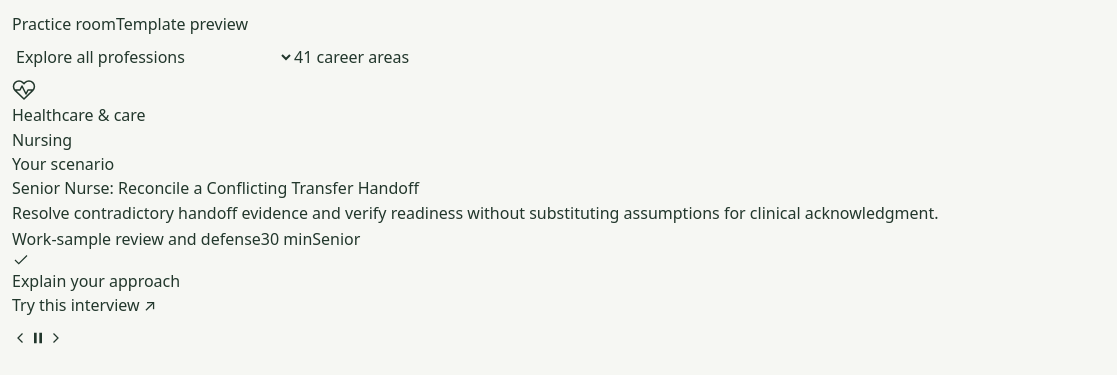
Test: homepage interview preview controls › retains useful previews and working destinations when the public API is unavailable
Click the button named "Next interview preview" at [55, 338], box [46, 317, 64, 359]
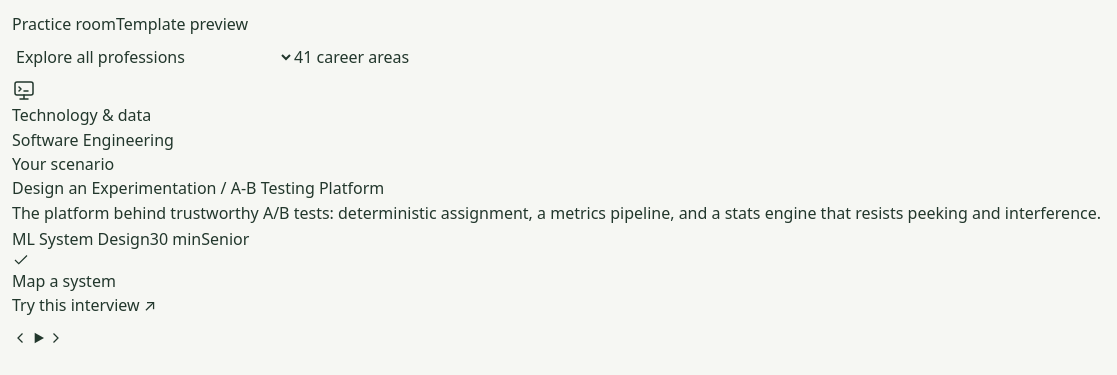
expect the heading "Design an Experimentation / A-B Testing Platform" is shown: met, box [12, 177, 384, 199]
